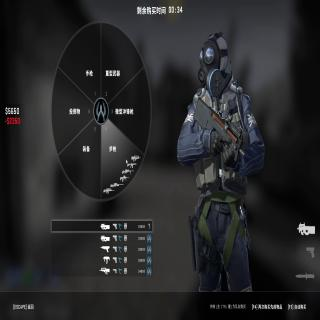CT-Head: (196, 32, 227, 88)
